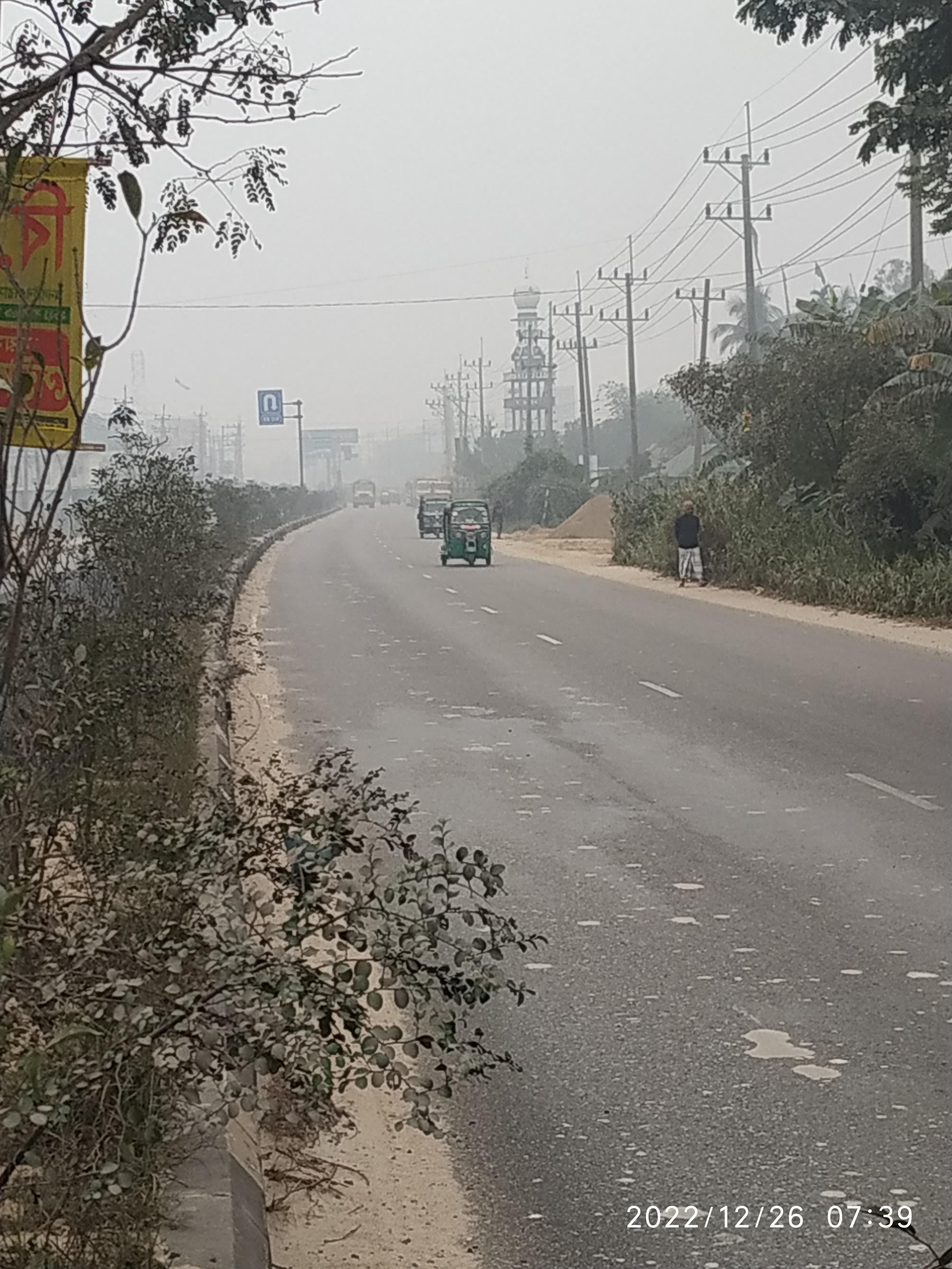Truck: (341, 473, 383, 516)
